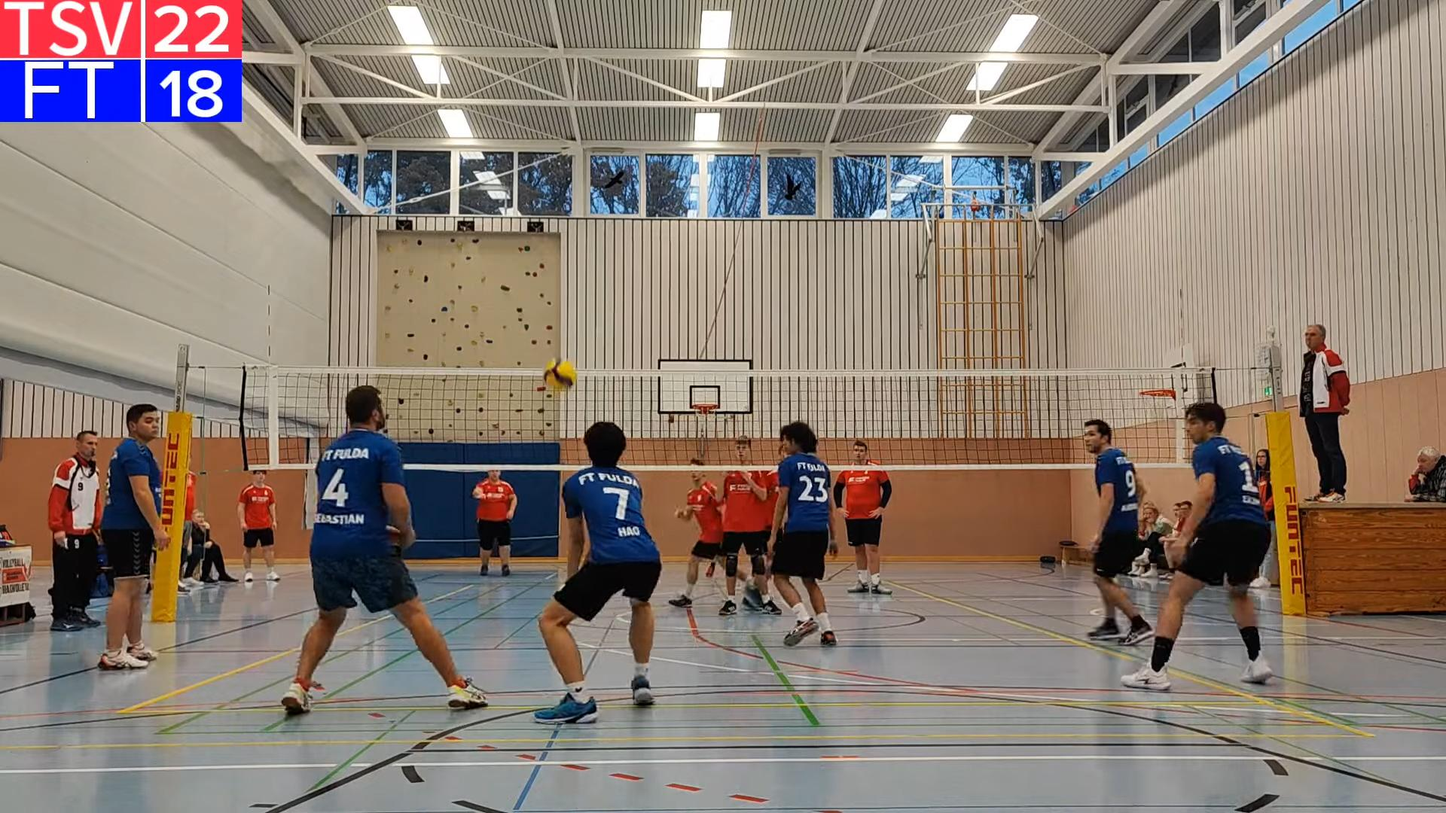ricezione: (533, 412, 660, 718)
